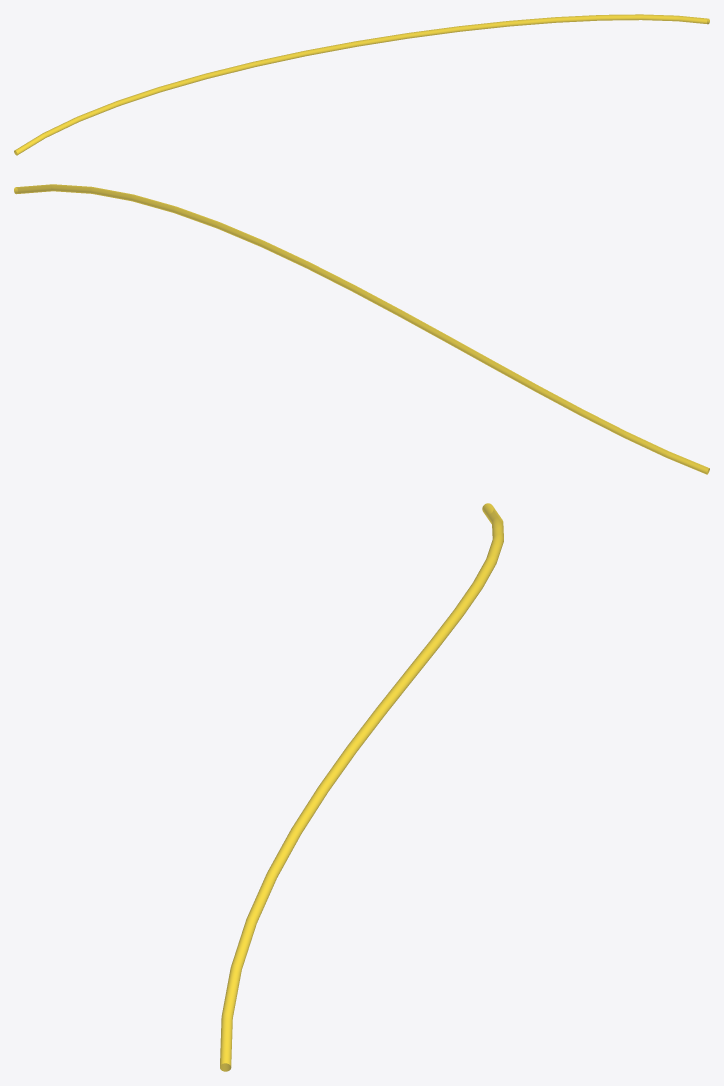
The model's file is Event_31209032_track_30.fbx.
The picture shows the model from 3 angles, top to bottom: view 1: azimuth 30°, elevation 25°; view 2: azimuth 150°, elevation 25°; view 3: azimuth 270°, elevation 25°; orthographic projection. The views are drawn at different scales.
Parts seen in each view (by area): view 1: Model; view 2: Model; view 3: Model.
Boxes of the visible parts, x1=… form: Model: x1=14, y1=14, x2=709, y2=155; Model: x1=14, y1=184, x2=709, y2=474; Model: x1=220, y1=503, x2=503, y2=1071.
Bounding box in the file's own units: 5.08 × 0.472 × 0.9945.
